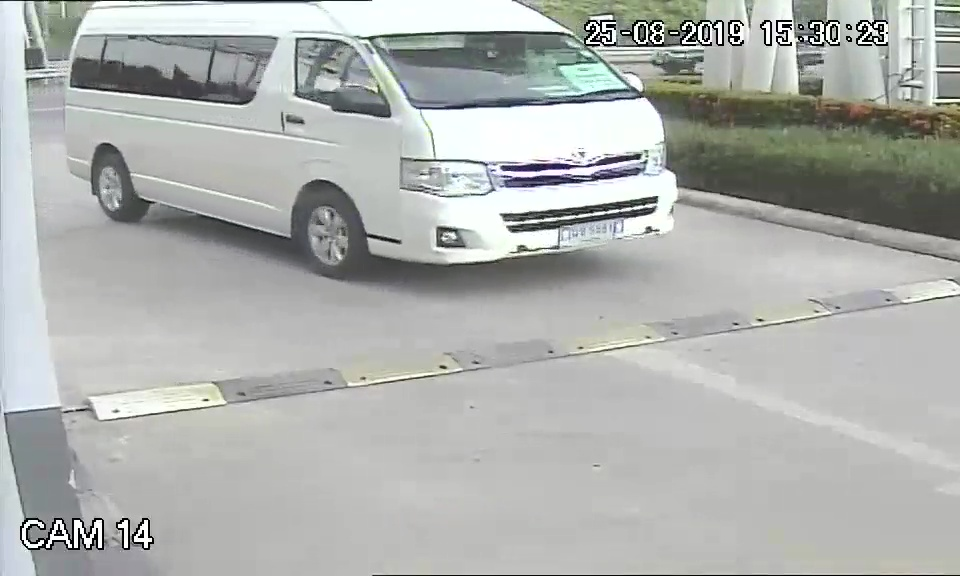van: (58, 3, 682, 280)
